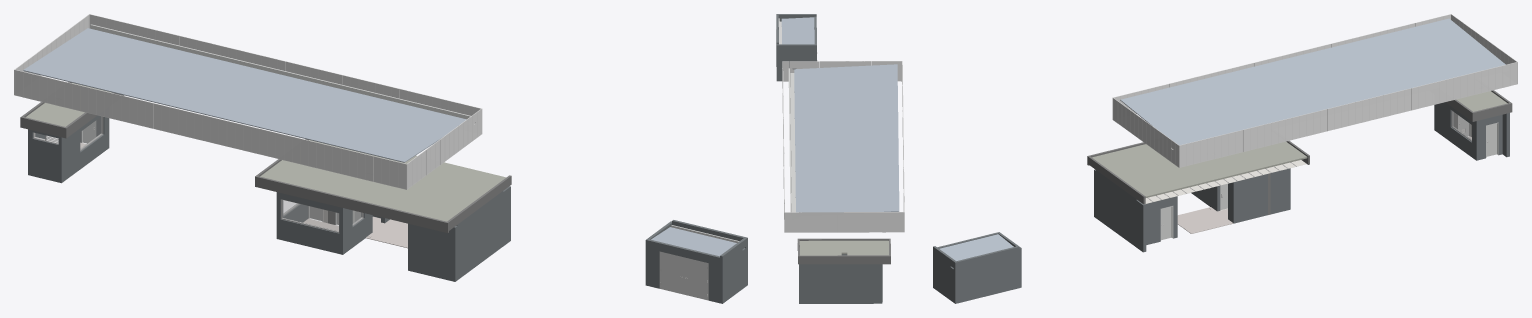
Rendered from pt-103-caseta-control-hq-p01-v00.glb.
3 renders of one model, left to right at view 1: azimuth 30°, elevation 25°; view 2: azimuth 150°, elevation 25°; view 3: azimuth 270°, elevation 25°, orthographic. The views are drawn at different scales.
Visible parts, largest first — view 1: 0ZW5Vq40zE_PTfR7IaYT9V, 0K$17nPuX61QPNQb5NSafW, 3YECCYYU5B3fzwQCVH$jxv, 3YECCYYU5B3fzwQCVH$jxu, 0kp7CRmU19Ae880jTxfULp, 3YECCYYU5B3fzwQCVH$jnz, 3$jvH__J15LhwxTafTCDkr, 3efdMjPWnFJBCWADjIDXud, 3efdMjPWnFJBCWADjIDXum, 3efdMjPWnFJBCWADjIDXun, 3YECCYYU5B3fzwQCVH$jnl, 3efdMjPWnFJBCWADbIDXua (+9 smaller); view 2: 0ZW5Vq40zE_PTfR7IaYT9V, 0MR6AQBPjB48ap9mLXU7zO, 0K$17nPuX61QPNQb5NSalD, 3YECCYYU5B3fzwQCVH$jnk, 3efdMjPWnFJBCWADbIDXua, 0kp7CRmU19Ae880jTxfUCI, 3efdMjPWnFJBCWADjIDXuo, 3$jvH__J15LhwxTafTCDkr, 3sFtWfnfz2OvvciOdQuu6C, 0kp7CRmU19Ae880jTxfUFx, 3efdMjPWnFJBCWADjIDXun, 1NsKafmwj55BH$uznp9W9T (+17 smaller); view 3: 0ZW5Vq40zE_PTfR7IaYT9V, 0K$17nPuX61QPNQb5NSafW, 3efdMjPWnFJBCWADjIDXuu, 3YECCYYU5B3fzwQCVH$jxv, 3efdMjPWnFJBCWADjIDXun, 3efdMjPWnFJBCWADbIDXua, 2emK5LOvTCfetS7DHaqKgN, 2ADjiROD5EruMn1denysNX, 03GtUEL3n6mhKstbVJ0JTW, 3YECCYYU5B3fzwQCVH$jpD, 3YECCYYU5B3fzwQCVH$jne, 3YECCYYU5B3fzwQCVH$jwQ (+10 smaller).
Part boxes in pixels (bbox=[...]): 0ZW5Vq40zE_PTfR7IaYT9V: bbox=[23, 28, 466, 162]; 0K$17nPuX61QPNQb5NSafW: bbox=[260, 140, 506, 221]; 3YECCYYU5B3fzwQCVH$jxv: bbox=[456, 191, 503, 280]; 3YECCYYU5B3fzwQCVH$jxu: bbox=[408, 223, 457, 281]; 0kp7CRmU19Ae880jTxfULp: bbox=[255, 175, 448, 233]; 3YECCYYU5B3fzwQCVH$jnz: bbox=[280, 193, 344, 254]; 3$jvH__J15LhwxTafTCDkr: bbox=[90, 24, 470, 119]; 3efdMjPWnFJBCWADjIDXud: bbox=[659, 251, 708, 300]; 3efdMjPWnFJBCWADjIDXum: bbox=[648, 239, 719, 303]; 3efdMjPWnFJBCWADjIDXun: bbox=[720, 237, 747, 303]; 3YECCYYU5B3fzwQCVH$jnl: bbox=[32, 130, 63, 183]; 3efdMjPWnFJBCWADbIDXua: bbox=[651, 227, 736, 256]; 0ZW5Vq40zE_PTfR7IaYT9V: bbox=[794, 64, 899, 212]; 0MR6AQBPjB48ap9mLXU7zO: bbox=[806, 264, 855, 303]; 0K$17nPuX61QPNQb5NSalD: bbox=[799, 240, 888, 255]; 3YECCYYU5B3fzwQCVH$jnk: bbox=[855, 264, 882, 303]; 3efdMjPWnFJBCWADbIDXua: bbox=[781, 17, 814, 44]; 0kp7CRmU19Ae880jTxfUCI: bbox=[800, 255, 890, 264]; 3efdMjPWnFJBCWADjIDXuo: bbox=[776, 44, 816, 81]; 3$jvH__J15LhwxTafTCDkr: bbox=[788, 68, 795, 212]; 3sFtWfnfz2OvvciOdQuu6C: bbox=[799, 264, 806, 303]; 0kp7CRmU19Ae880jTxfUFx: bbox=[799, 238, 888, 246]; 3efdMjPWnFJBCWADjIDXun: bbox=[776, 14, 816, 29]; 1NsKafmwj55BH$uznp9W9T: bbox=[897, 212, 904, 232]; 0ZW5Vq40zE_PTfR7IaYT9V: bbox=[1120, 18, 1505, 145]; 0K$17nPuX61QPNQb5NSafW: bbox=[1092, 141, 1307, 197]; 3efdMjPWnFJBCWADjIDXuu: bbox=[956, 246, 1019, 303]; 3YECCYYU5B3fzwQCVH$jxv: bbox=[1096, 170, 1137, 247]; 3efdMjPWnFJBCWADjIDXun: bbox=[933, 246, 957, 303]; 3efdMjPWnFJBCWADbIDXua: bbox=[939, 234, 1013, 260]; 2emK5LOvTCfetS7DHaqKgN: bbox=[1145, 160, 1306, 203]; 2ADjiROD5EruMn1denysNX: bbox=[1177, 207, 1233, 233]; 03GtUEL3n6mhKstbVJ0JTW: bbox=[1270, 168, 1290, 214]; 3YECCYYU5B3fzwQCVH$jpD: bbox=[1231, 178, 1251, 223]; 3YECCYYU5B3fzwQCVH$jne: bbox=[1449, 105, 1479, 160]; 3YECCYYU5B3fzwQCVH$jwQ: bbox=[1146, 197, 1174, 244].
Bounding box in the file's own units: 27.57 × 7 × 35.93.
